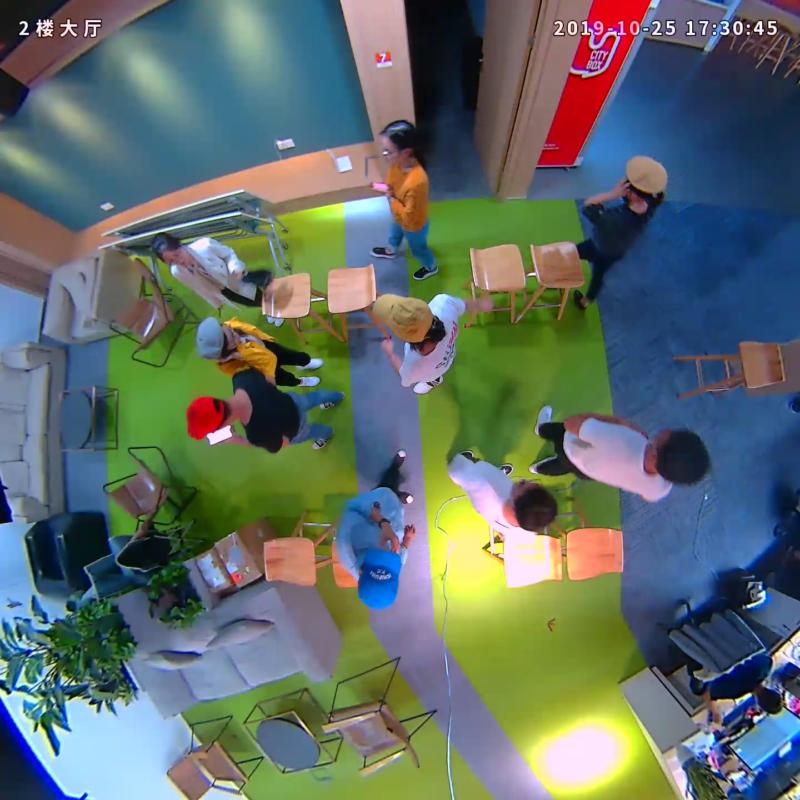head: (371, 292, 438, 346), (653, 427, 710, 486), (358, 545, 402, 609), (511, 480, 558, 531), (184, 395, 233, 442), (623, 154, 669, 203), (196, 317, 242, 359), (378, 119, 418, 164), (149, 231, 191, 268)
